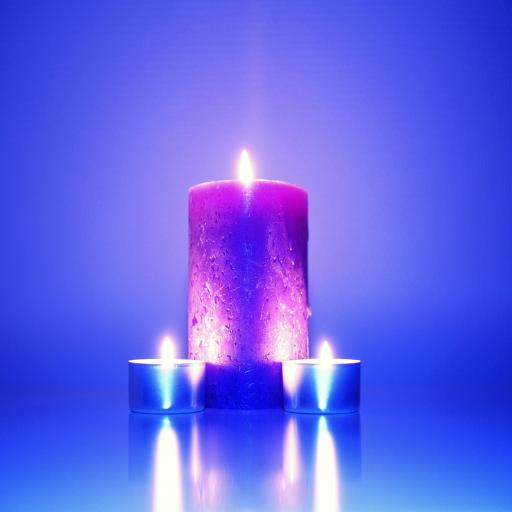candlelight: (180, 104, 317, 427), (285, 316, 371, 426), (123, 328, 208, 410)
